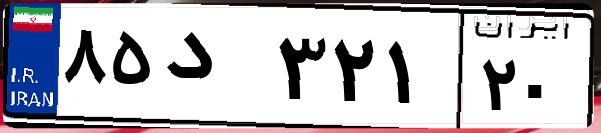0: (525, 38, 570, 115)
1: (385, 28, 445, 110)
2: (330, 28, 385, 110), (475, 38, 525, 113)
3: (270, 28, 330, 110)
5: (110, 28, 158, 98)
8: (57, 26, 110, 100)
د: (158, 20, 270, 120)
